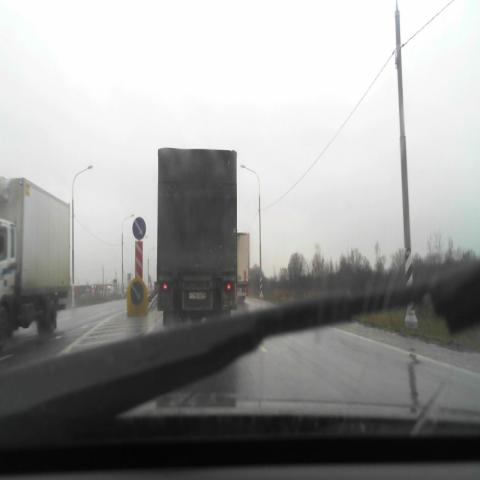4_2_1: (132, 217, 146, 239)
